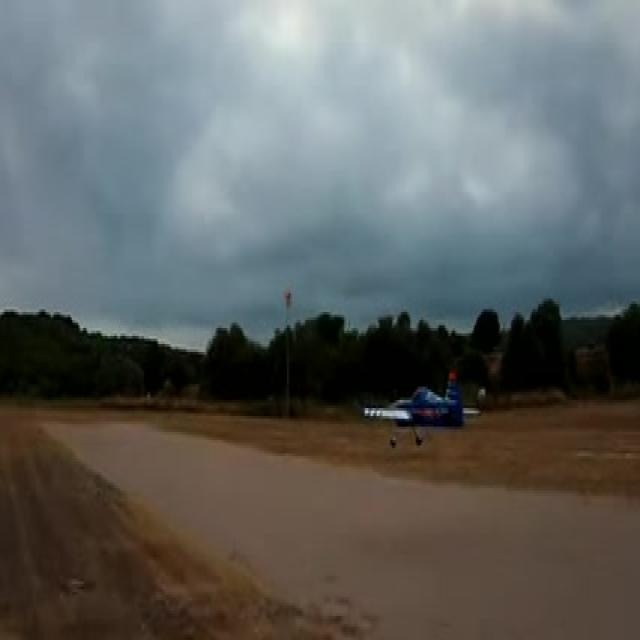iha: (393, 414, 450, 418)
